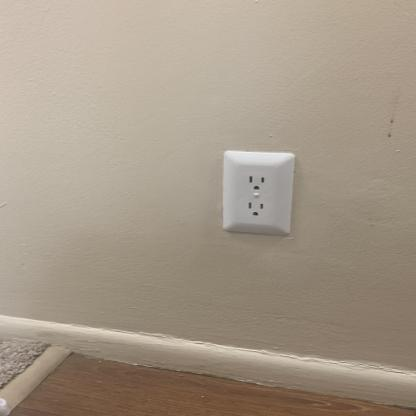OUTLET: (220, 149, 294, 236)
